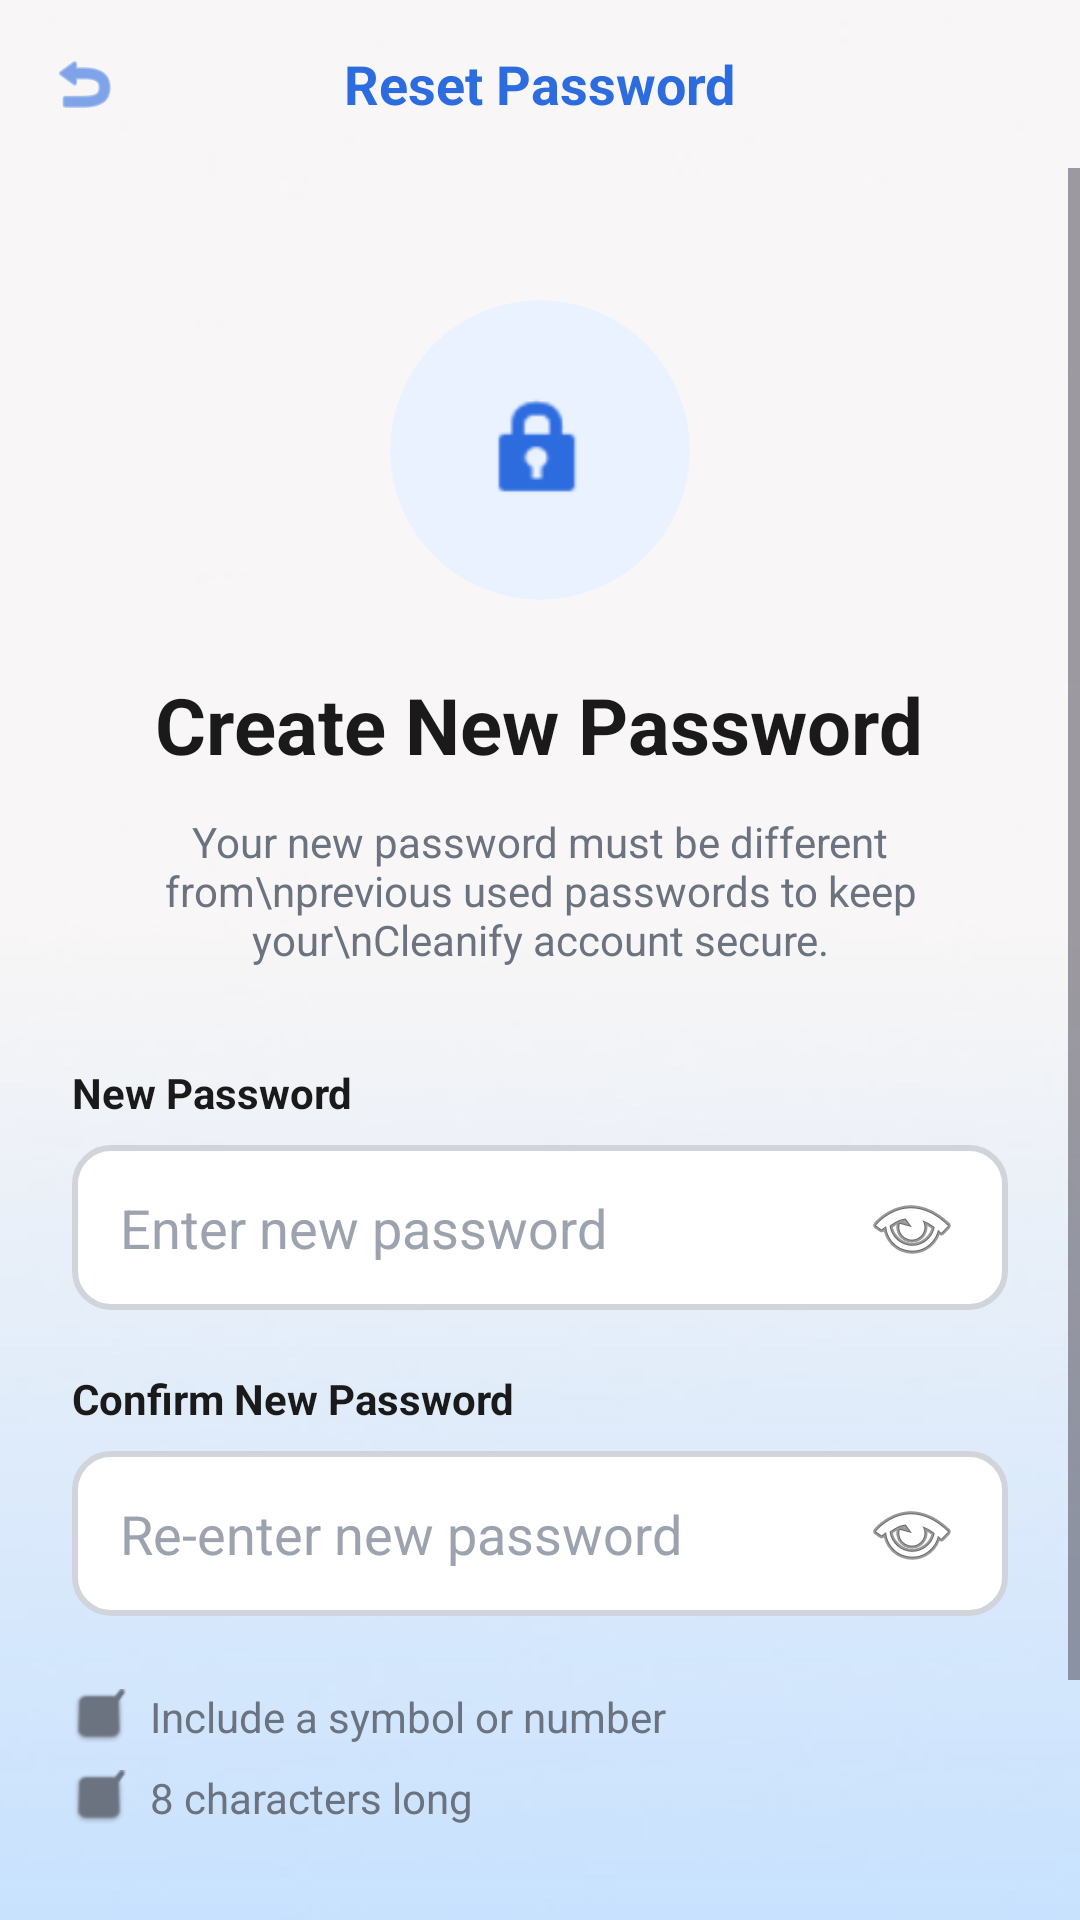

Icon click points for this 1080x1920 phone screenshot, format point (x, y):
lock idle: point (537, 446)
revert: point (85, 84)
